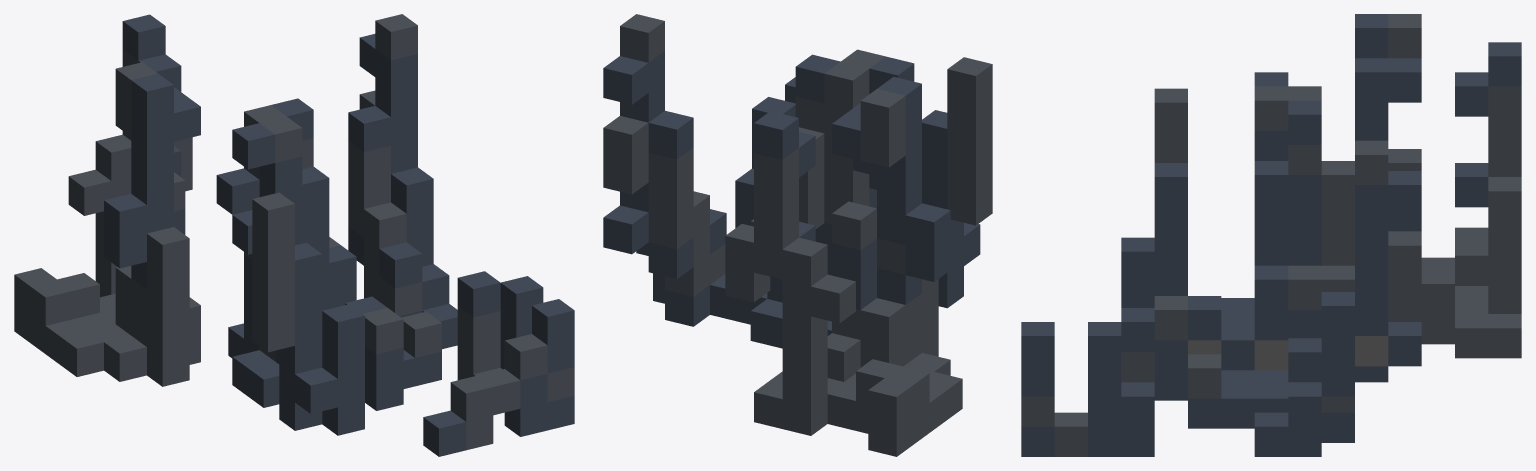
File: lvl2-5.obj
3 renders of one model, left to right at view 1: azimuth 30°, elevation 25°; view 2: azimuth 150°, elevation 25°; view 3: azimuth 270°, elevation 25°, orthographic. The views are drawn at different scales.
Bounding box in the file's own units: 1.2 × 1 × 1.5.
Materials: 1 (1 with a texture image).
